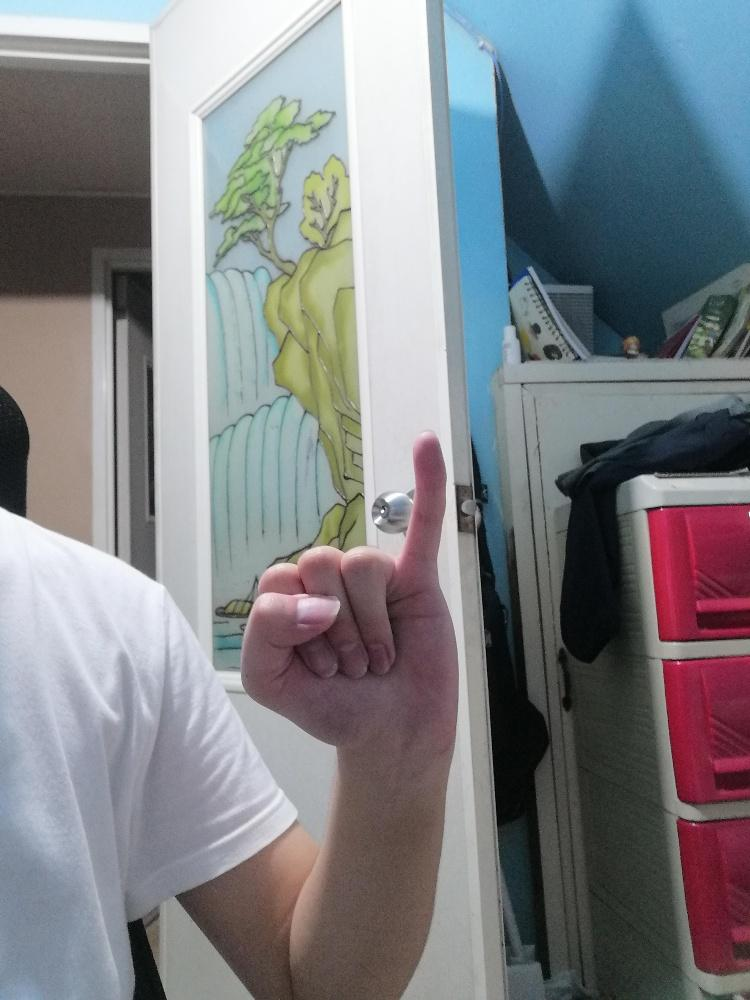i: (238, 430, 458, 747)
